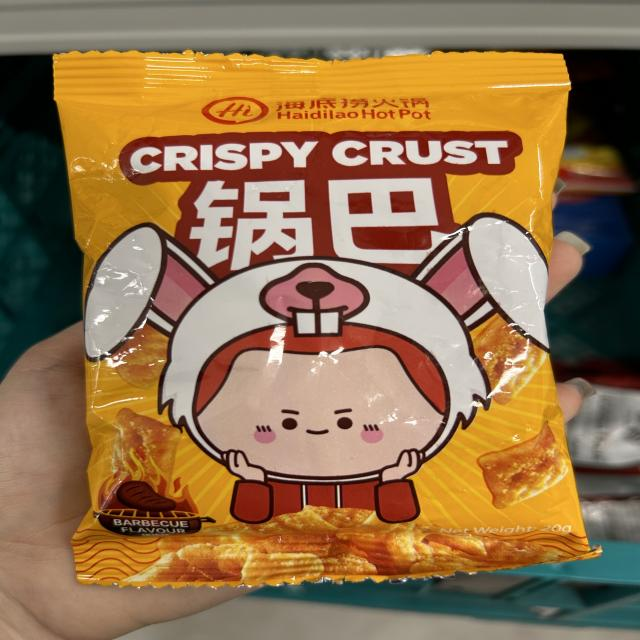object_name: (66, 52, 572, 556)
